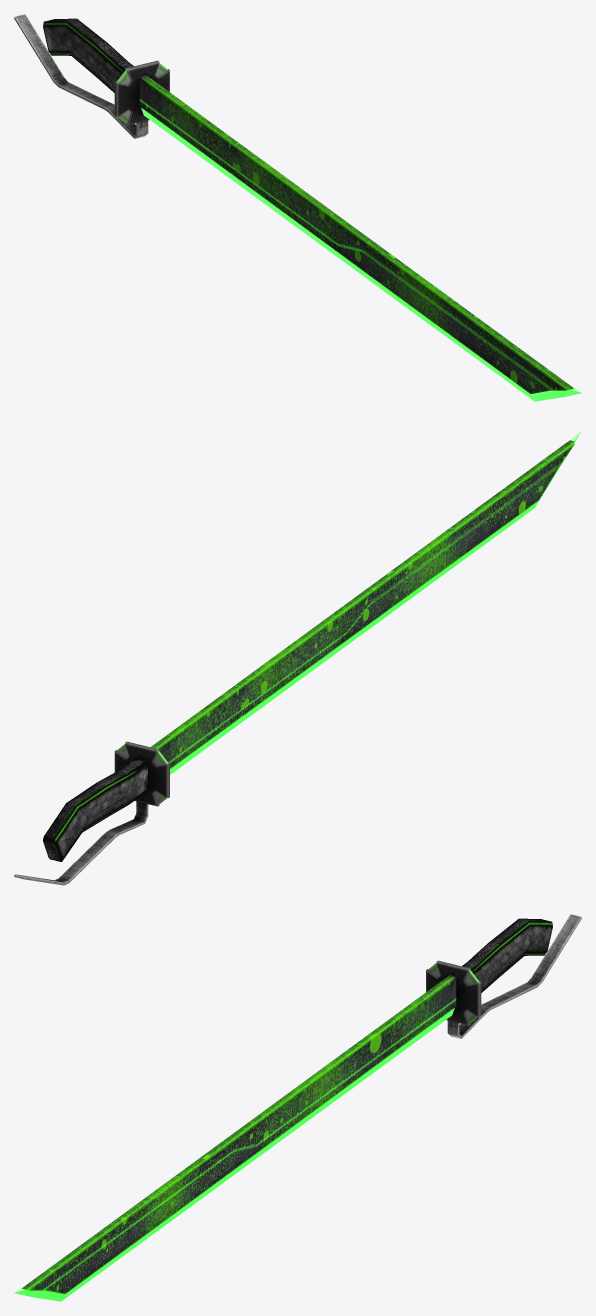
Rendered from cyber_sword.glb.
3 renders of one model, top to bottom at view 1: azimuth 30°, elevation 25°; view 2: azimuth 150°, elevation 25°; view 3: azimuth 330°, elevation 25°, orthographic.
Parts seen in each view (by area): view 1: Plane, Cube.002, Cube, Cube.001; view 2: Plane, Cube.002, Cube, Cube.001; view 3: Plane, Cube.002, Cube, Cube.001.
Part boxes in pixels (bbox=[...]): Plane: bbox=[139, 75, 581, 401]; Cube.002: bbox=[43, 18, 133, 92]; Cube: bbox=[114, 60, 169, 125]; Cube.001: bbox=[14, 14, 148, 138]; Plane: bbox=[150, 431, 581, 774]; Cube.002: bbox=[43, 758, 147, 861]; Cube: bbox=[114, 741, 169, 806]; Cube.001: bbox=[14, 801, 148, 885]; Plane: bbox=[14, 975, 456, 1301]; Cube.002: bbox=[462, 918, 552, 992]; Cube: bbox=[426, 960, 481, 1025]; Cube.001: bbox=[447, 914, 581, 1038].
Bounding box in the file's own units: 0.6349 × 0.8886 × 11.51.
Materials: 7 (7 with a texture image).
